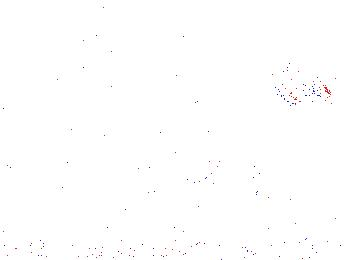flame jellyfish: (278, 170, 346, 222), (200, 153, 263, 205), (271, 58, 332, 109)
